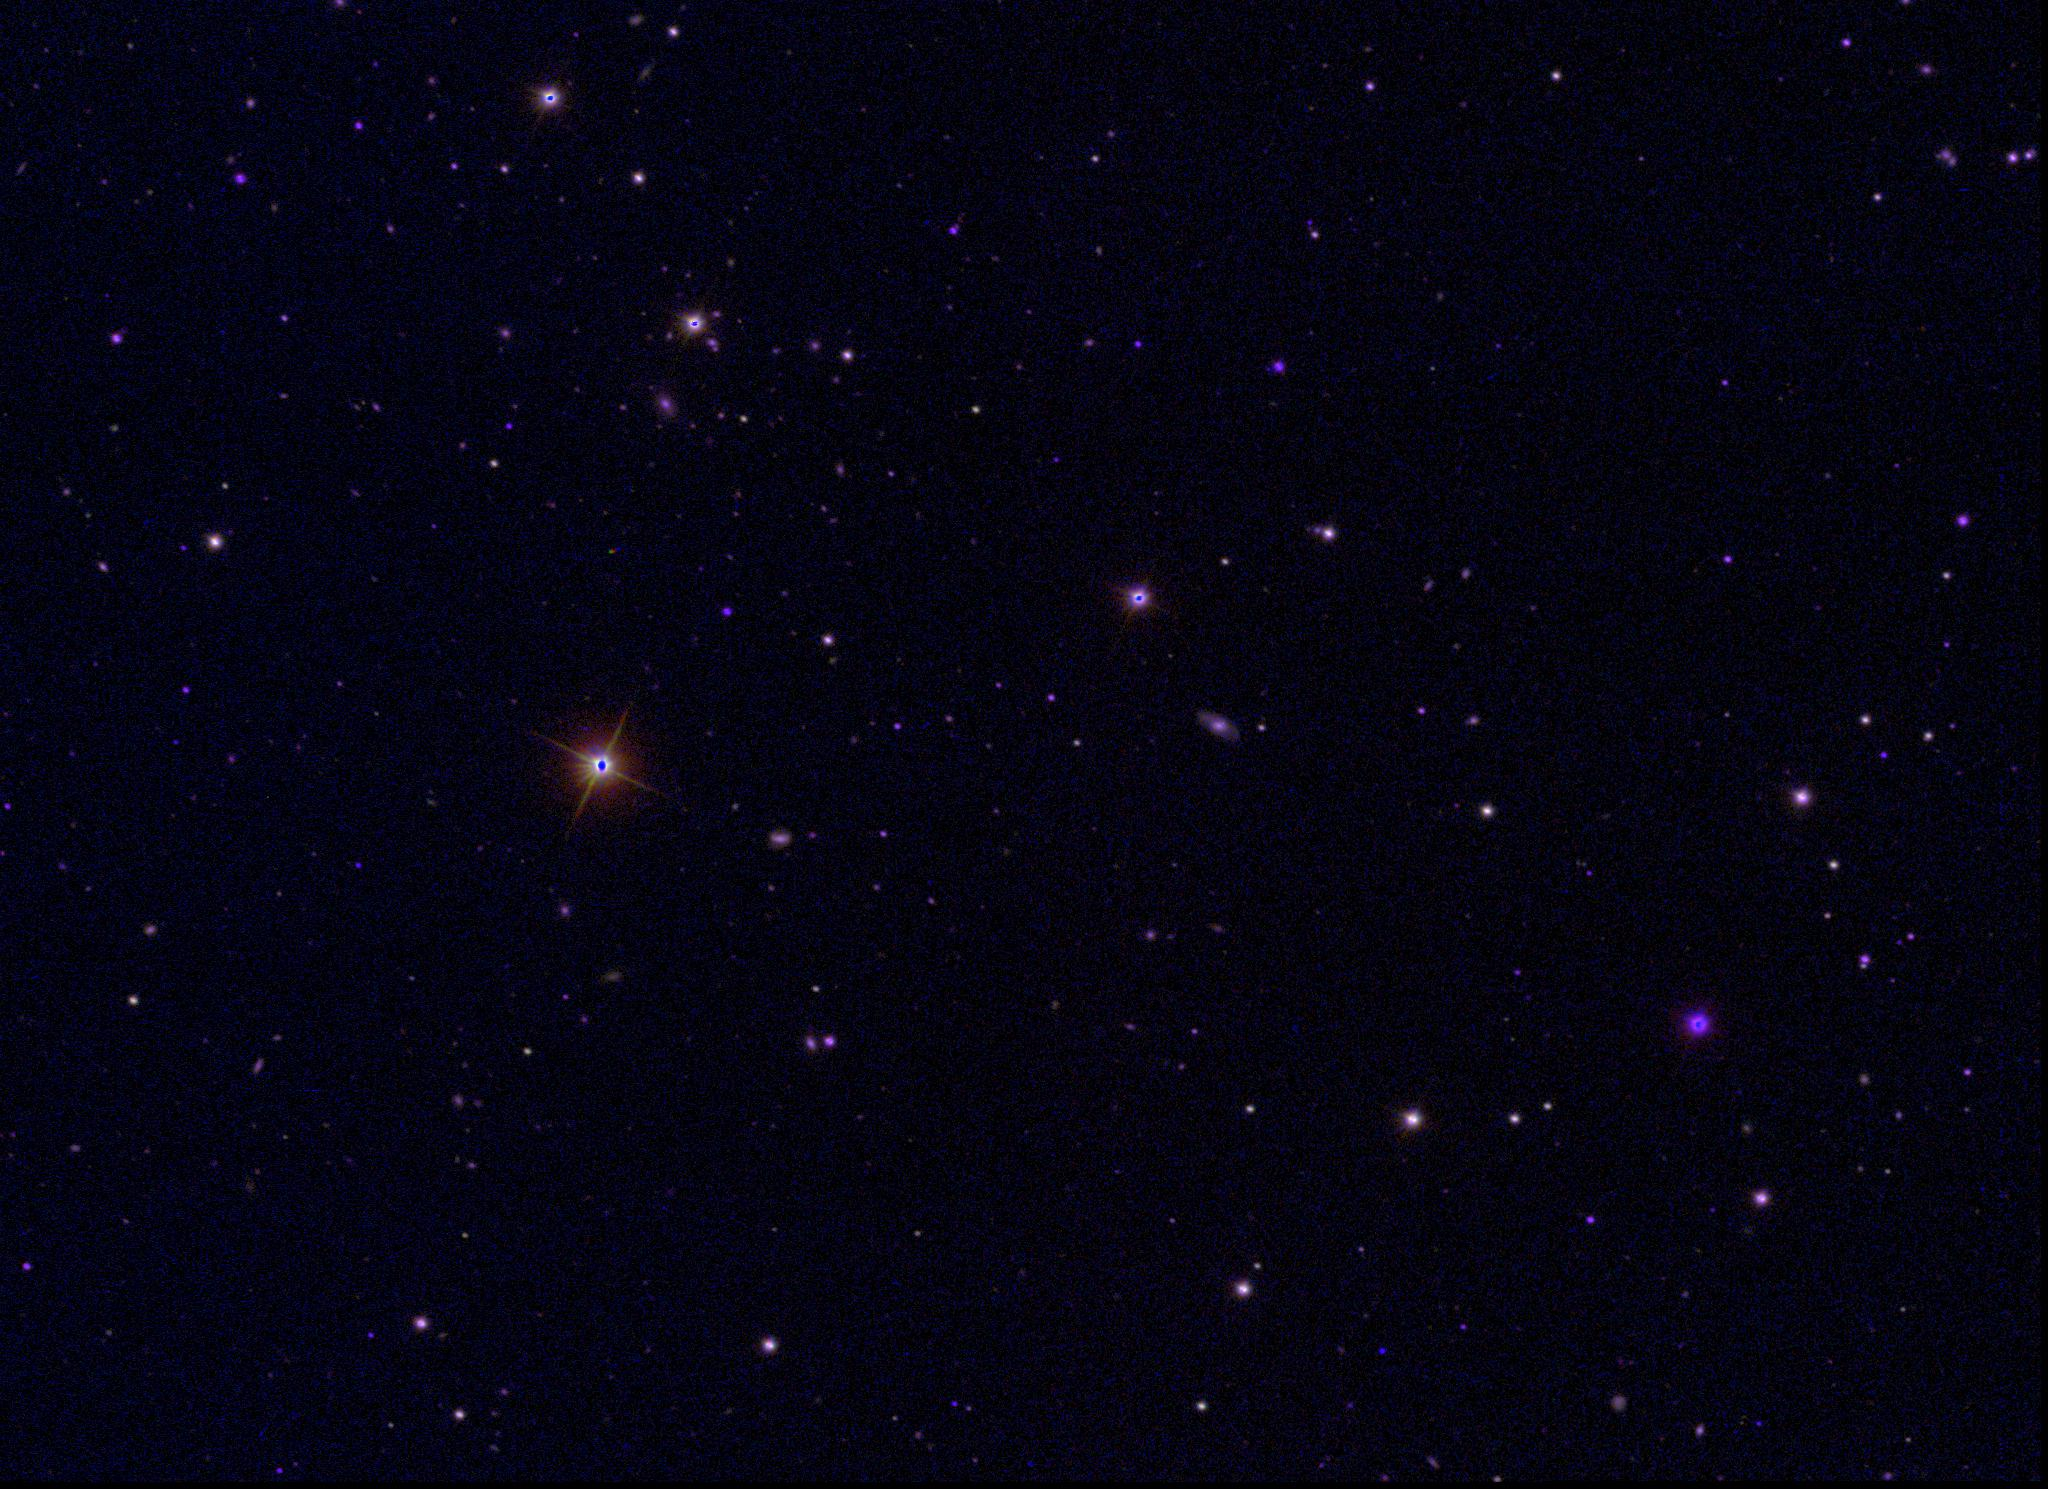L: (1375, 1344, 1390, 1359)
